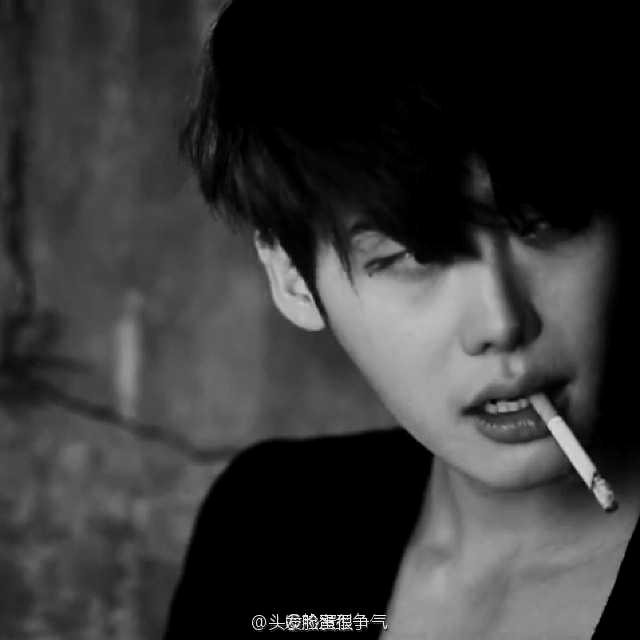Smooking: (526, 394, 622, 526)
